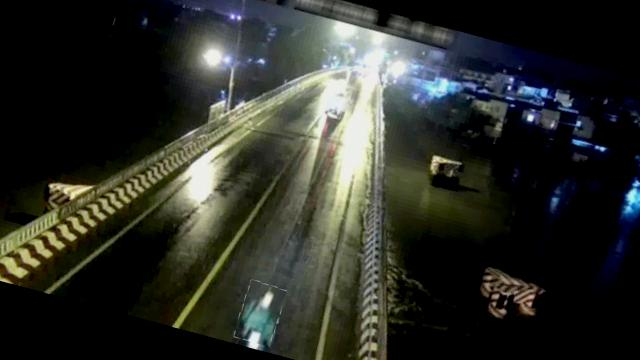Bike: (233, 279, 286, 347)
Truck: (321, 85, 350, 120)
